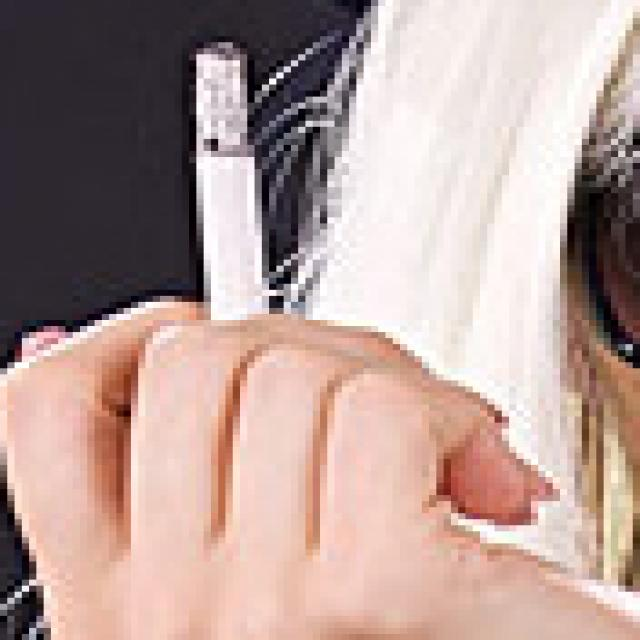smoking: (190, 39, 269, 321)
